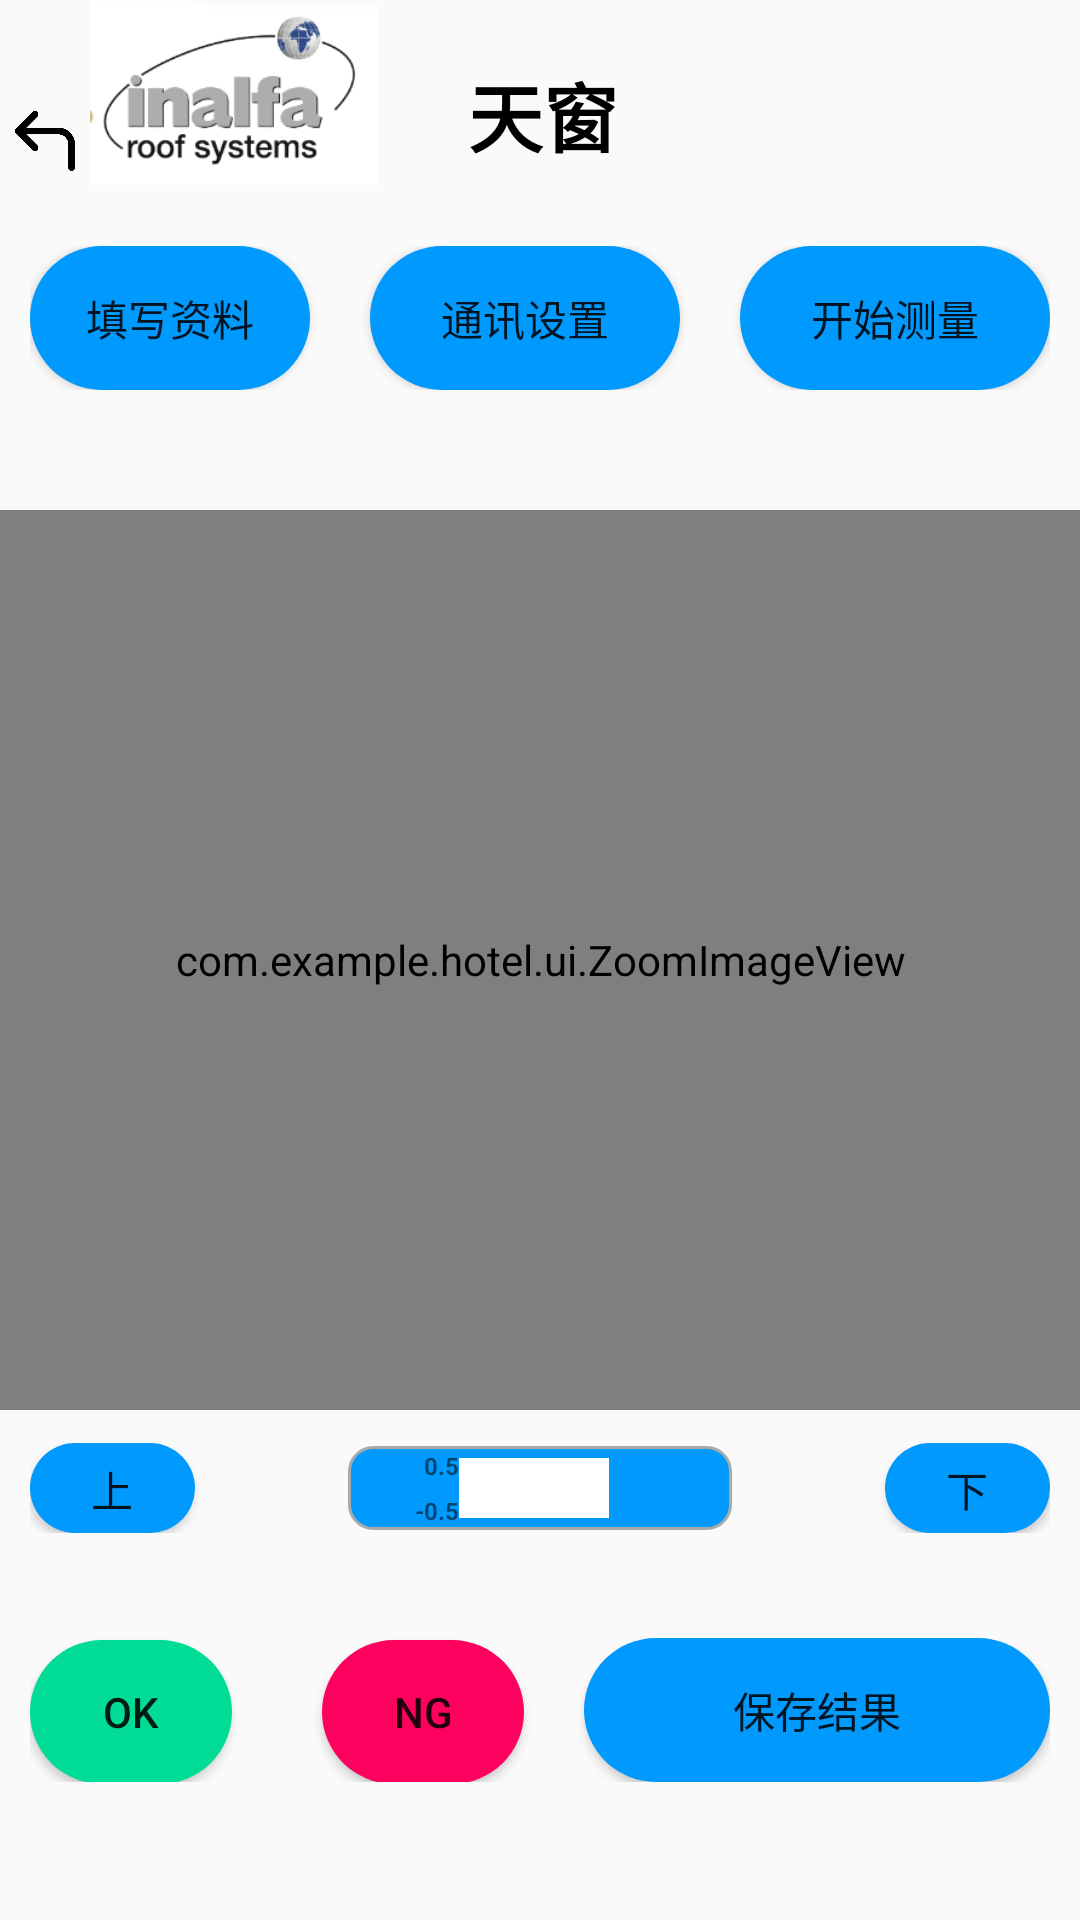

Screen size 1080px x 1920px. Icon name, then its box in pixels as {"left": x1, "top": y1, "right": x2, "bottom": y2}:
back: {"left": 15, "top": 111, "right": 75, "bottom": 171}
